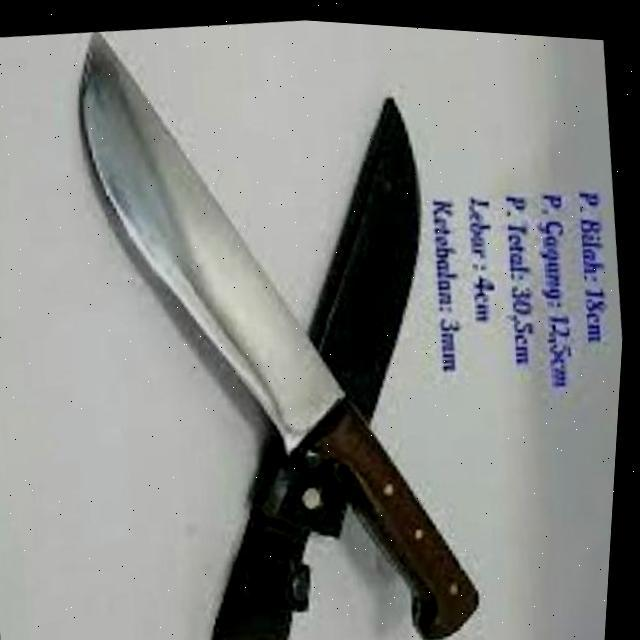knife: (44, 4, 514, 640)
